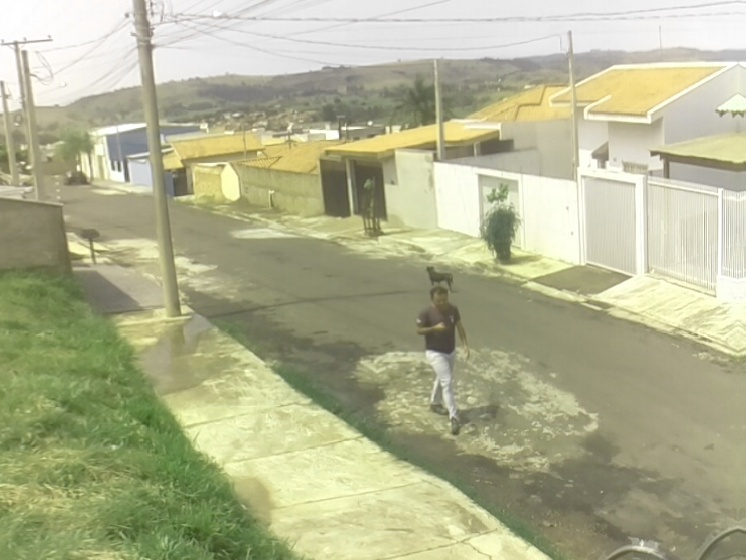person: (413, 285, 471, 439)
